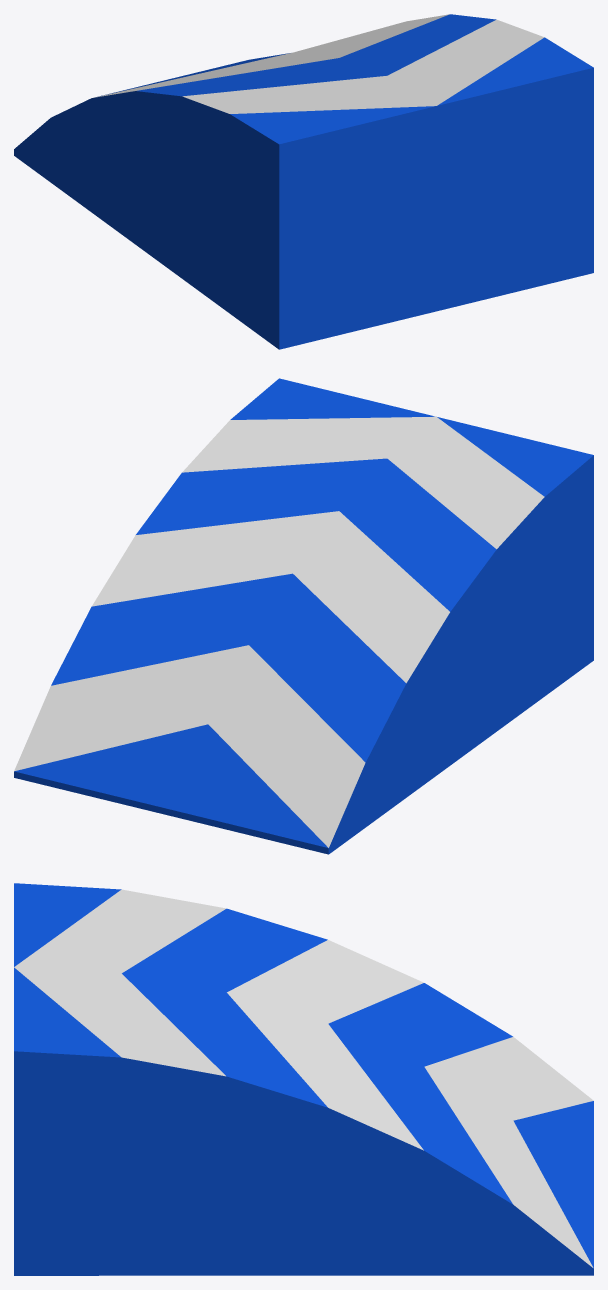
Rendered from Way01_Pont_Up_.fbx.
3 views of the same model, one above another, from view 1: azimuth 30°, elevation 25°; view 2: azimuth 150°, elevation 25°; view 3: azimuth 270°, elevation 25° (orthographic). The views are drawn at different scales.
Visible parts, largest first — view 1: Way01_Pont_Up_; view 2: Way01_Pont_Up_; view 3: Way01_Pont_Up_.
Part boxes in pixels (bbox=[...]): Way01_Pont_Up_: bbox=[14, 14, 593, 349]; Way01_Pont_Up_: bbox=[14, 378, 593, 854]; Way01_Pont_Up_: bbox=[14, 883, 593, 1275].
Size of the model in its own units: 4 by 5.84 by 2.49.
